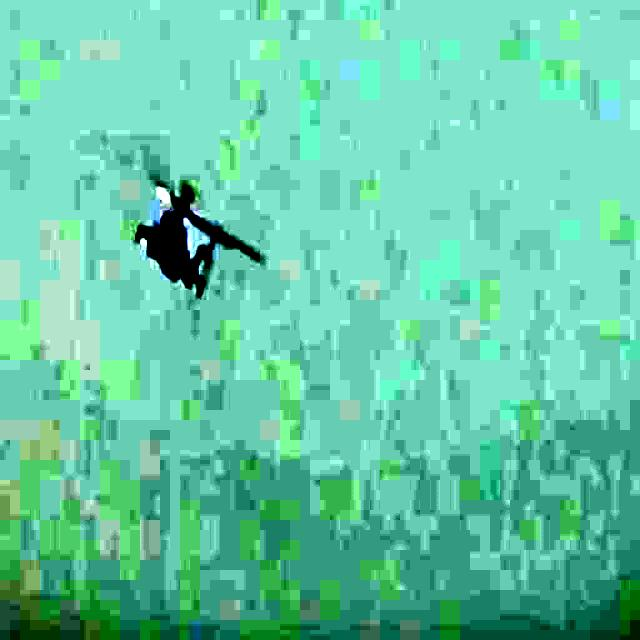drone: (129, 164, 246, 319)
